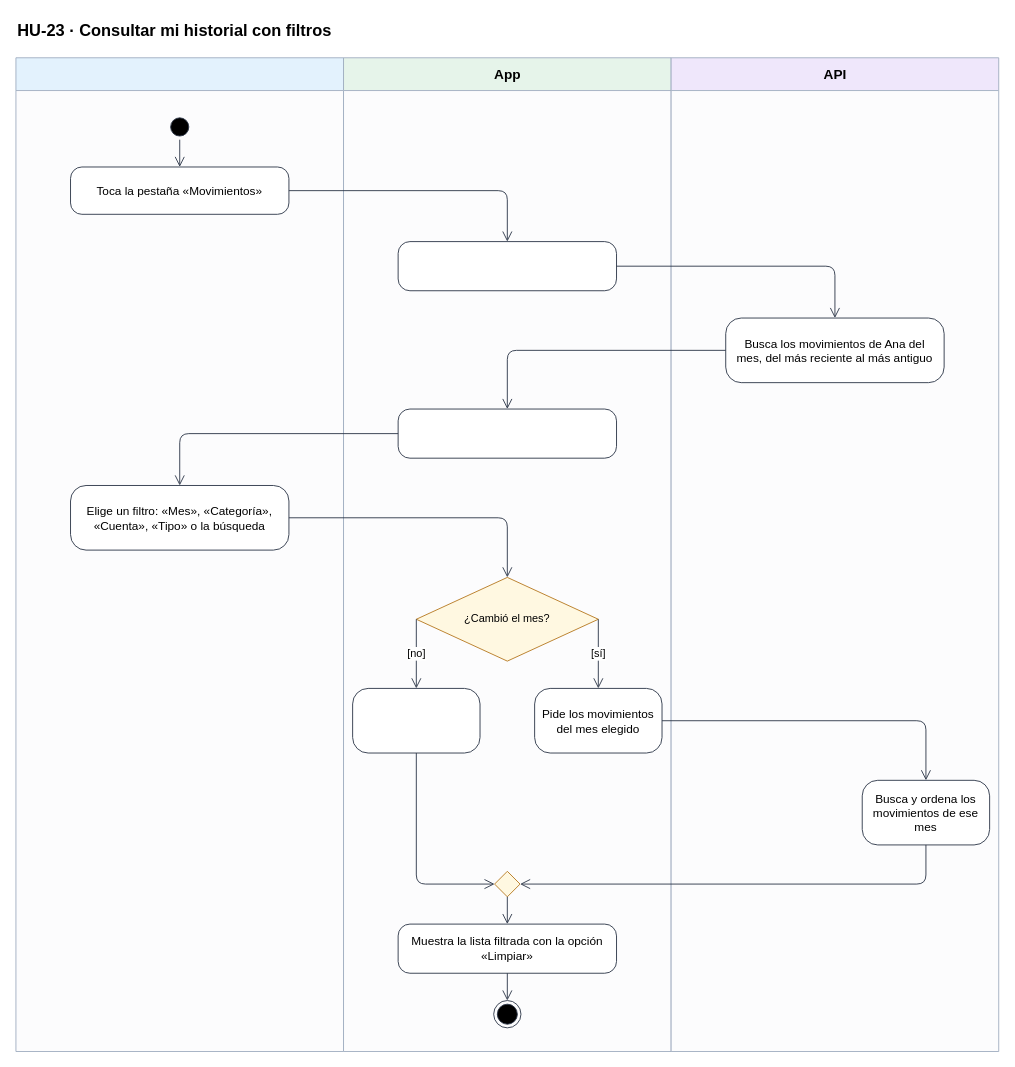
This 1015x1067 diagram has some shape labels left out. The shapes that lost their labels are listed below. From the top down, each one's box as (x1, y1, x2, y2) in pixels, then its label:
(397, 241, 617, 291): Pide los movimientos del mes en curso
(397, 408, 617, 458): Los agrupa por día («Hoy», «Ayer») con el neto de cada día
(15, 57, 344, 1052): Usuario
(352, 688, 480, 753): Filtra en el teléfono la lista ya cargada
